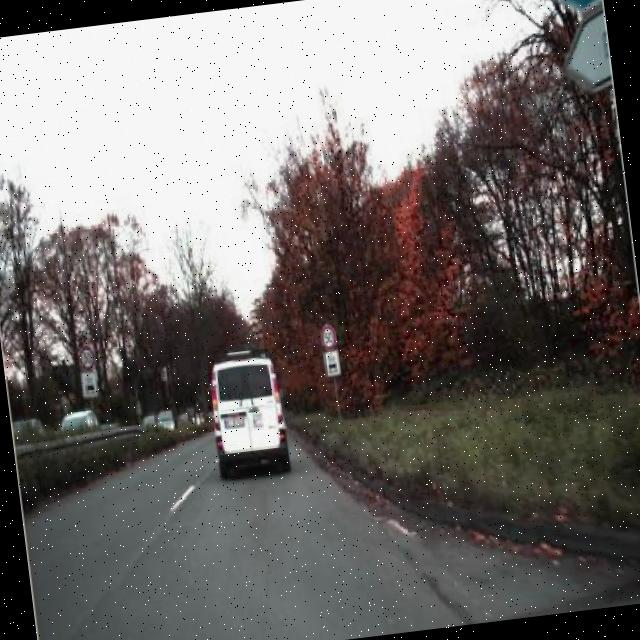Ograniczenie predkosci do 50: (75, 340, 99, 372), (318, 321, 340, 354)
